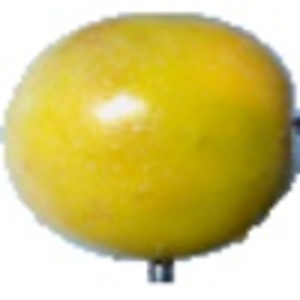maracujá: (1, 11, 300, 285)
